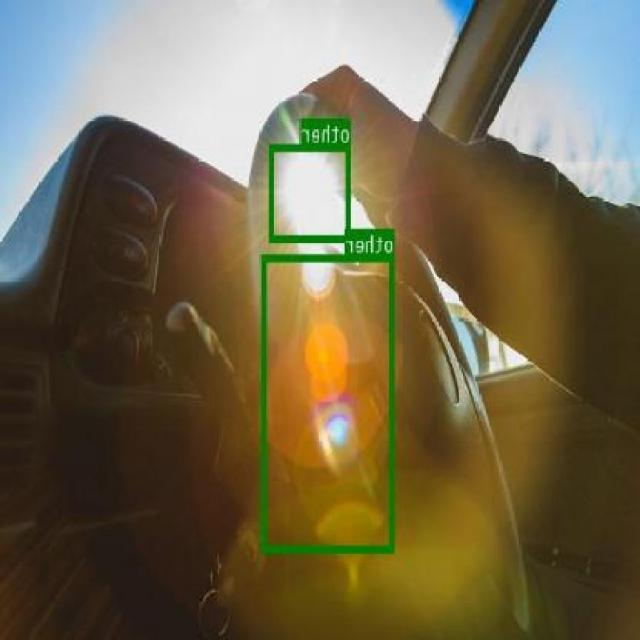other: (262, 253, 395, 552), (270, 144, 352, 241)
